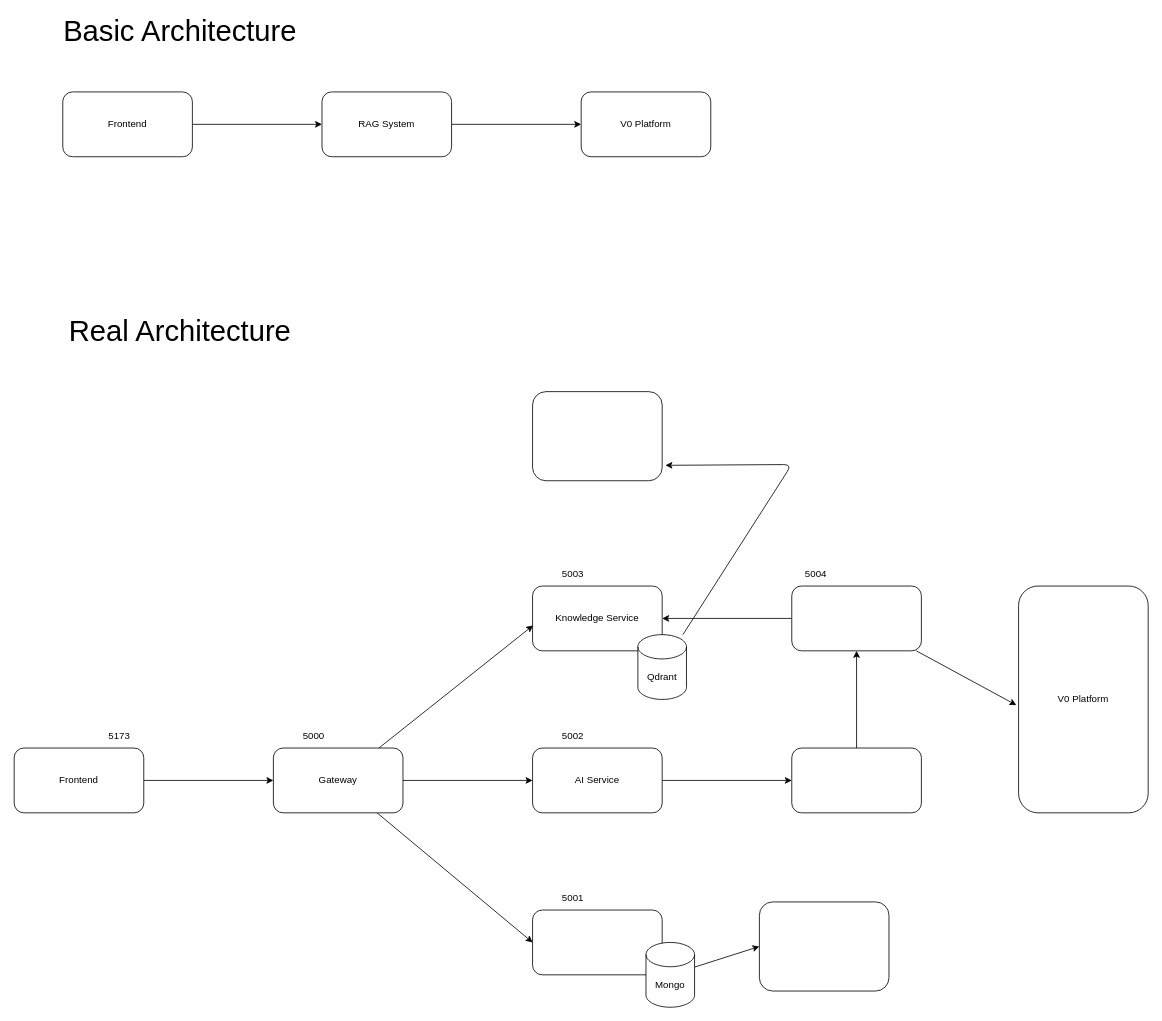
This 1162x1021 diagram has some shape labels left out. Each missing label, with the centre of its shape:
Code Generate Service: the point at 856,618
Mongo Express Client: the point at 824,946
Qdrant Client: the point at 597,436
RabbitMQ: the point at 856,780
User Service: the point at 597,942
